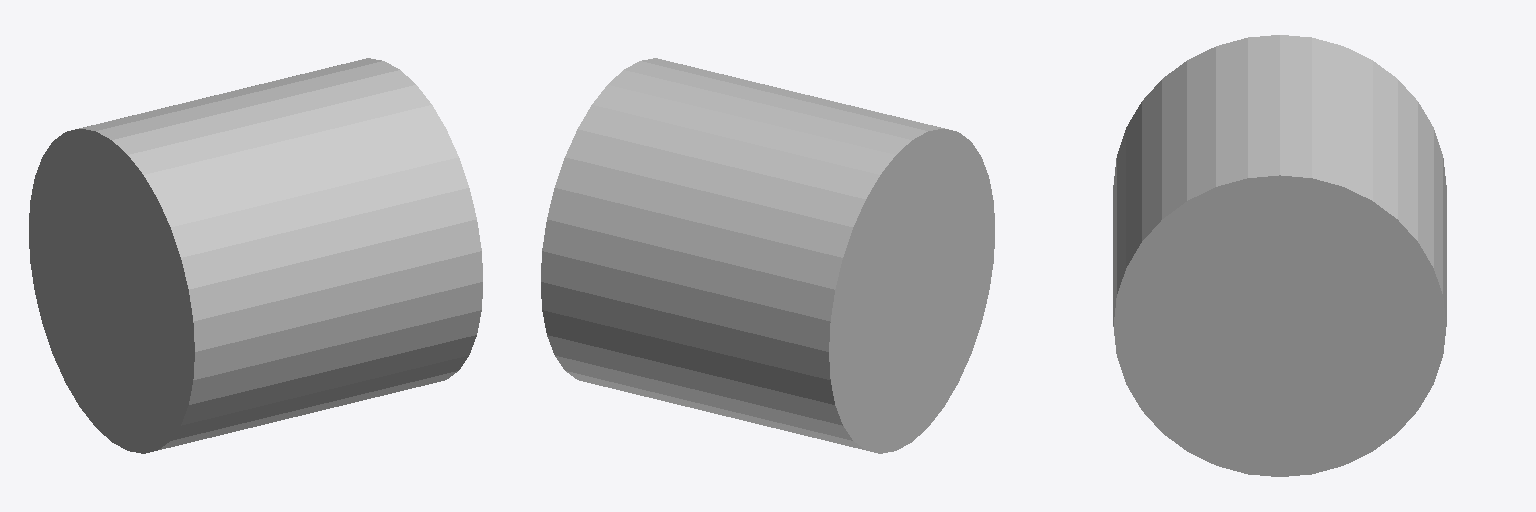
File: mid.obj
The picture shows the model from 3 angles: view 1: azimuth 30°, elevation 25°; view 2: azimuth 150°, elevation 25°; view 3: azimuth 270°, elevation 25°; orthographic projection.
Visible parts, largest first — view 1: Cylinder.003; view 2: Cylinder.003; view 3: Cylinder.003.
Boxes of the visible parts, x1=… form: Cylinder.003: x1=29, y1=58, x2=482, y2=453; Cylinder.003: x1=541, y1=58, x2=994, y2=453; Cylinder.003: x1=1113, y1=35, x2=1446, y2=476.
Bounding box in the file's own units: 0.24 × 0.24 × 0.24.